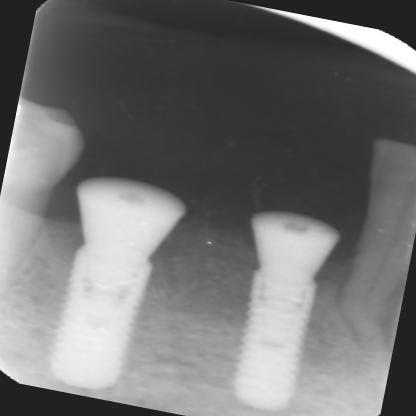ITI: (35, 237, 158, 398), (214, 263, 331, 415)
